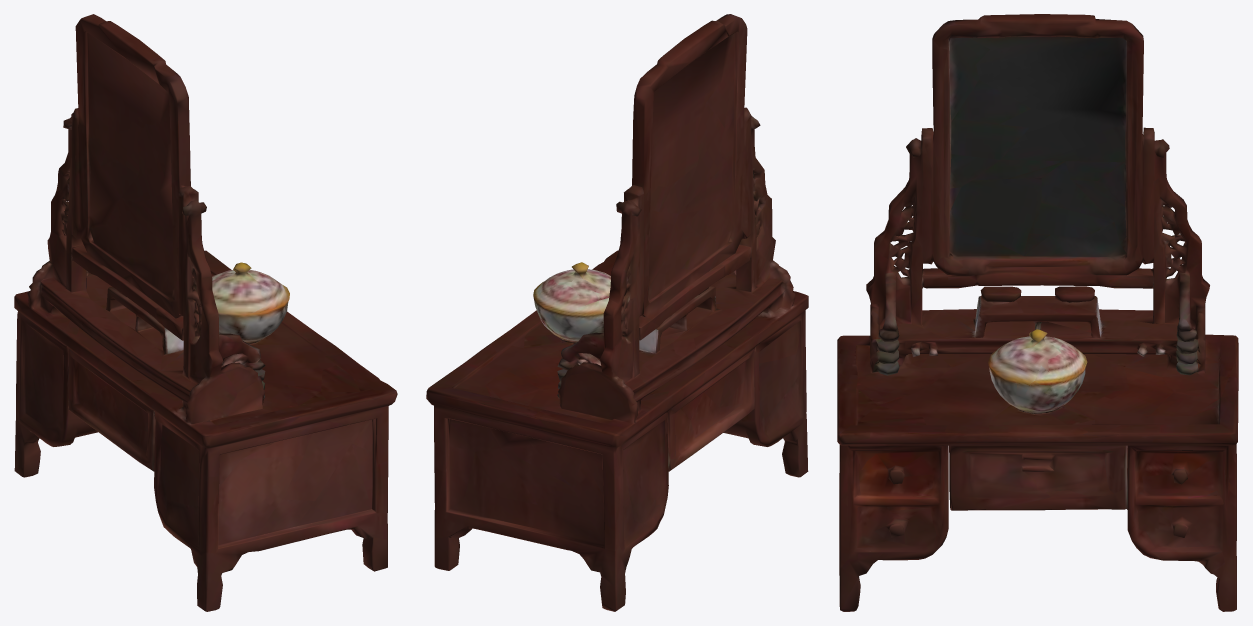
File: jingtai.glb
The picture shows the model from 3 angles, left to right: view 1: azimuth 30°, elevation 25°; view 2: azimuth 150°, elevation 25°; view 3: azimuth 270°, elevation 25°; orthographic projection. The views are drawn at different scales.
Parts seen in each view (by area): view 1: tripo_node_10a88429-0c56-4728-838d-56324e256a79; view 2: tripo_node_10a88429-0c56-4728-838d-56324e256a79; view 3: tripo_node_10a88429-0c56-4728-838d-56324e256a79.
Part boxes in pixels (x1=…): tripo_node_10a88429-0c56-4728-838d-56324e256a79: x1=14, y1=14, x2=397, y2=611; tripo_node_10a88429-0c56-4728-838d-56324e256a79: x1=426, y1=14, x2=808, y2=611; tripo_node_10a88429-0c56-4728-838d-56324e256a79: x1=837, y1=14, x2=1238, y2=611.
Size of the model in its own units: 0.4103 by 1 by 0.7058.
Materials: 1 (1 with a texture image).
